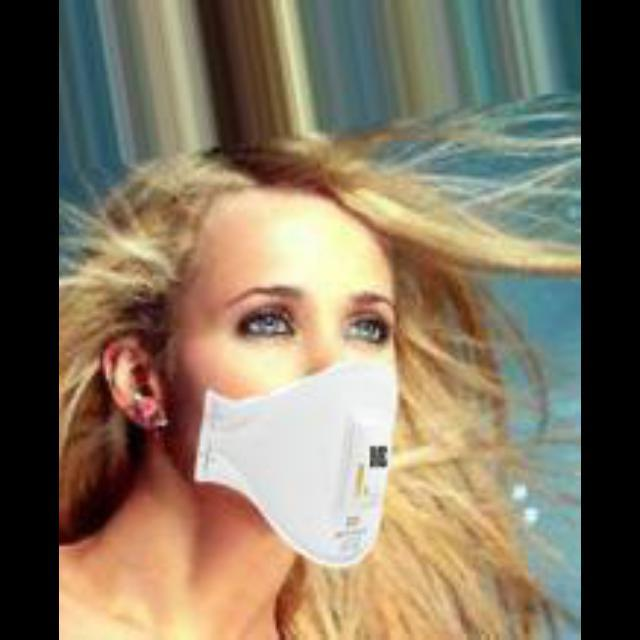suspicion: (119, 185, 439, 557)
